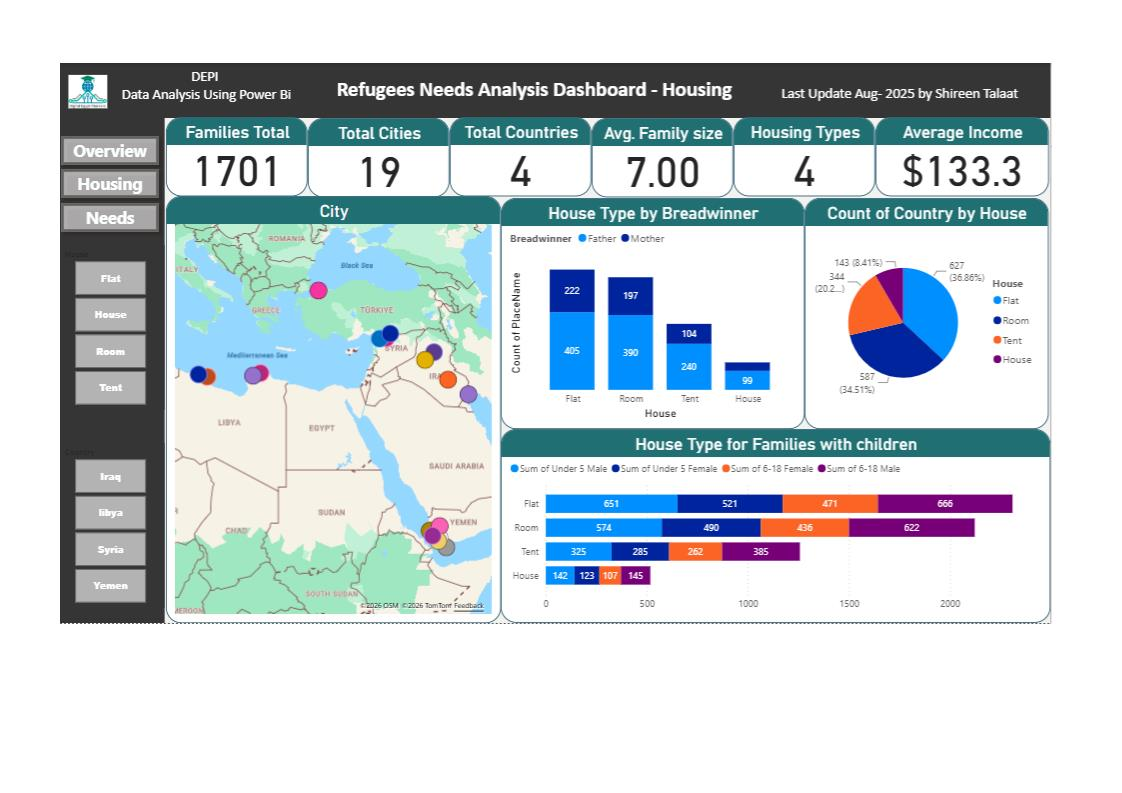

Layout of this report page (visuals, bound fields, positions):
{"tool":"powerbi","page":{"name":"Housing","canvas":[1280,720],"ordinal":1},"visuals":[{"type":"shape","box":[0,70.7,141.4,649],"z":0},{"type":"shape","box":[0,0,1280,70.7],"z":1000},{"type":"actionButton","box":[0,86.1,141.4,52.7],"z":2000},{"type":"image","box":[10,10,64.3,52.7],"z":3000},{"type":"textbox","box":[64.3,0,260.9,61.7],"z":4000},{"type":"actionButton","box":[0,128.5,141.4,52.7],"z":5000},{"type":"actionButton","box":[0,172.2,141.4,52.7],"z":6000},{"type":"textbox","box":[343.1,12.9,546.2,47.6],"z":7000},{"type":"textbox","box":[929.2,21.8,332.9,34.7],"z":8000},{"type":"card","title":"Families Total","fields":{"Values":["CountNonNull(Needs.Name)"]},"box":[142.7,69.4,182.5,101.5],"z":9000},{"type":"card","title":"Average Income","fields":{"Values":["Avg(Needs.Income)"]},"box":[1055.1,69.4,223,101.5],"z":10000},{"type":"card","title":"Total Countries","fields":{"Values":["Count(Needs.Country)"]},"box":[507.6,69.4,182.5,101.5],"z":11000},{"type":"card","title":"Avg. Family size","fields":{"Values":["Avg(Needs.Total family members)"]},"box":[690.1,70.7,182.5,101.5],"z":12000},{"type":"card","title":"Total Cities","fields":{"Values":["Count(Needs.City)"]},"box":[325.1,70.7,182.5,101.5],"z":13000},{"type":"card","title":"Housing Types","fields":{"Values":["Count(Needs.House)"]},"box":[872.6,69.4,182.5,101.5],"z":14000},{"type":"azureMap","fields":{"Category":["Needs.City"]},"box":[142.7,170.9,430.5,548.8],"z":15000},{"type":"columnChart","title":"House Type by Breadwinner","fields":{"Category":["Needs.House"],"Series":["Needs.Breadwinner"],"Y":["CountNonNull(Needs.PlaceName)"]},"box":[573.2,173.5,390.7,296.9],"z":16000},{"type":"barChart","title":"House Type for Families with children","fields":{"Category":["Needs.House"],"Y":["Sum(Needs.Under 5 Male)","Sum(Needs.Under 5 Female)","Sum(Needs.6-18 Female)","Sum(Needs.6-18 Male)"]},"box":[573.2,470.4,706.8,249.3],"z":17000},{"type":"pieChart","fields":{"Category":["Needs.House"],"Y":["CountNonNull(Needs.Country)"]},"box":[963.9,173.5,313.6,296.9],"z":18000},{"type":"slicer","fields":{"Values":["Needs.House"]},"box":[0,233.9,141.4,212],"z":19000},{"type":"slicer","fields":{"Values":["Needs.Country"]},"box":[0,488.4,141.4,212],"z":20000}]}

Visuals, with their boxes on the page's 1280x720 design canvas (x1, y1, x2, y2). These are canvas units, not pixel positions in the 1122x793 screenshot, which may show the page scaled, cropped or inside an application window:
shape: detection(0, 71, 141, 720)
shape: detection(0, 0, 1280, 71)
actionButton: detection(0, 86, 141, 139)
image: detection(10, 10, 74, 63)
textbox: detection(64, 0, 325, 62)
actionButton: detection(0, 128, 141, 181)
actionButton: detection(0, 172, 141, 225)
textbox: detection(343, 13, 889, 60)
textbox: detection(929, 22, 1262, 56)
"Families Total" card: detection(143, 69, 325, 171)
"Average Income" card: detection(1055, 69, 1278, 171)
"Total Countries" card: detection(508, 69, 690, 171)
"Avg. Family size" card: detection(690, 71, 873, 172)
"Total Cities" card: detection(325, 71, 508, 172)
"Housing Types" card: detection(873, 69, 1055, 171)
azureMap - Needs.City: detection(143, 171, 573, 720)
"House Type by Breadwinner" columnChart: detection(573, 174, 964, 470)
"House Type for Families with children" barChart: detection(573, 470, 1280, 720)
pieChart - Needs.House x CountNonNull(Needs.Country): detection(964, 174, 1278, 470)
slicer - Needs.House: detection(0, 234, 141, 446)
slicer - Needs.Country: detection(0, 488, 141, 700)
